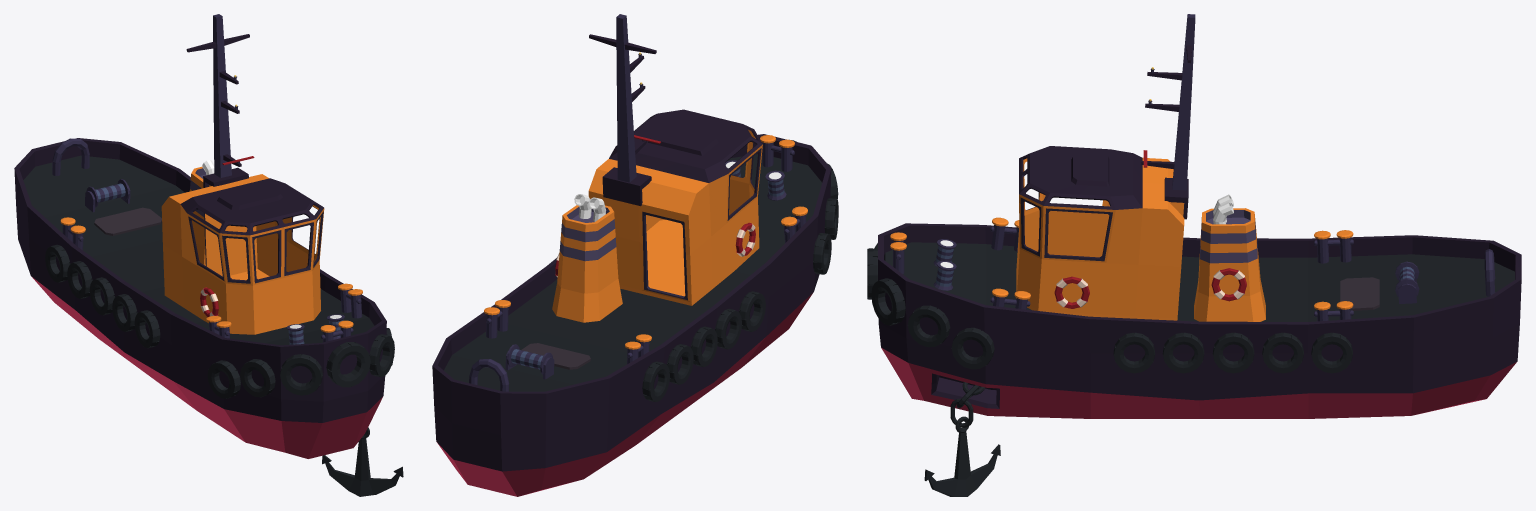
The model's file is boat.fbx.
3 views of the same model, side by side, from view 1: azimuth 30°, elevation 25°; view 2: azimuth 150°, elevation 25°; view 3: azimuth 270°, elevation 25° (orthographic). The views are drawn at different scales.
Parts seen in each view (by area): view 1: Cube.005, Cube.008, Cube.007, Torus.011, Cylinder.022, Cylinder.024, Cylinder.025, Cylinder.026, Cylinder.023, Cylinder.001, Cube.012, Cylinder.033 (+8 smaller); view 2: Cube.005, Cube.008, Cube.007, Cube.012, Cylinder.001, Cylinder.029, Cylinder.008, Cylinder.032, Cylinder.031, Cylinder.033, Cylinder.030, Cylinder.003 (+7 smaller); view 3: Cube.005, Cube.008, Cube.007, Cube.012, Torus.011, Cylinder.023, Cylinder.028, Cylinder.027, Cylinder.021, Cylinder.019, Cylinder.020, Cylinder.018 (+3 smaller).
Part boxes in pixels (left/top/right/bottom): Cube.005: left=14, top=138, right=386, bottom=458; Cube.008: left=161, top=14, right=324, bottom=334; Cube.007: left=23, top=155, right=374, bottom=345; Torus.011: left=322, top=427, right=403, bottom=496; Cylinder.022: left=326, top=342, right=370, bottom=387; Cylinder.024: left=280, top=354, right=322, bottom=395; Cylinder.025: left=240, top=359, right=275, bottom=397; Cylinder.026: left=207, top=360, right=240, bottom=398; Cylinder.023: left=369, top=334, right=394, bottom=377; Cylinder.001: left=85, top=179, right=130, bottom=212; Cube.012: left=189, top=166, right=206, bottom=265; Cylinder.033: left=134, top=310, right=160, bottom=348; Cube.005: left=432, top=134, right=831, bottom=496; Cube.008: left=588, top=14, right=762, bottom=305; Cube.007: left=444, top=154, right=821, bottom=391; Cube.012: left=552, top=205, right=622, bottom=322; Cylinder.001: left=505, top=344, right=554, bottom=379; Cylinder.029: left=642, top=361, right=669, bottom=401; Cylinder.008: left=760, top=135, right=794, bottom=171; Cylinder.032: left=715, top=308, right=741, bottom=349; Cylinder.031: left=690, top=326, right=717, bottom=367; Cylinder.033: left=739, top=291, right=765, bottom=331; Cylinder.030: left=666, top=344, right=693, bottom=384; Cylinder.003: left=484, top=300, right=510, bottom=338; Cube.005: left=878, top=223, right=1521, bottom=418; Cube.008: left=1016, top=14, right=1195, bottom=320; Cube.007: left=884, top=242, right=1514, bottom=321; Cube.012: left=1194, top=208, right=1265, bottom=321; Torus.011: left=924, top=416, right=1000, bottom=496; Cylinder.023: left=871, top=278, right=905, bottom=325; Cylinder.028: left=951, top=327, right=994, bottom=369; Cylinder.027: left=907, top=305, right=950, bottom=347; Cylinder.021: left=1113, top=332, right=1155, bottom=373; Cylinder.019: left=1212, top=332, right=1254, bottom=373; Cylinder.020: left=1162, top=332, right=1204, bottom=373; Cylinder.018: left=1262, top=332, right=1303, bottom=373.
Size of the model in its own units: 461 by 1054 by 1365.
